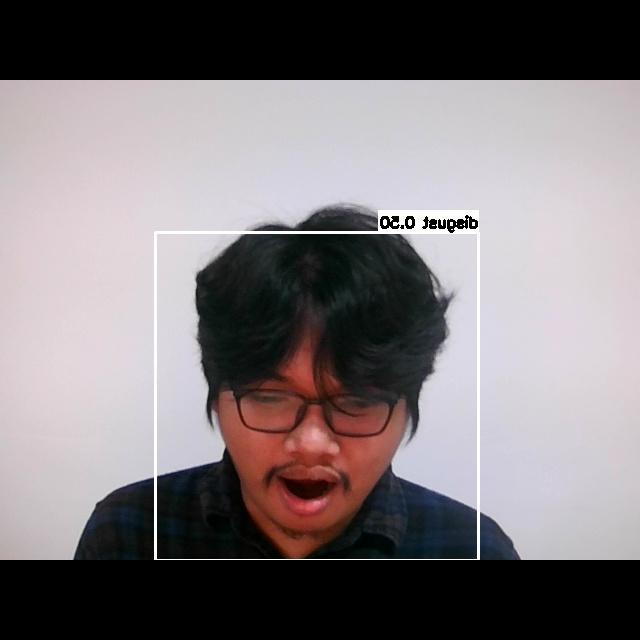Surprised: (214, 351, 403, 537)
